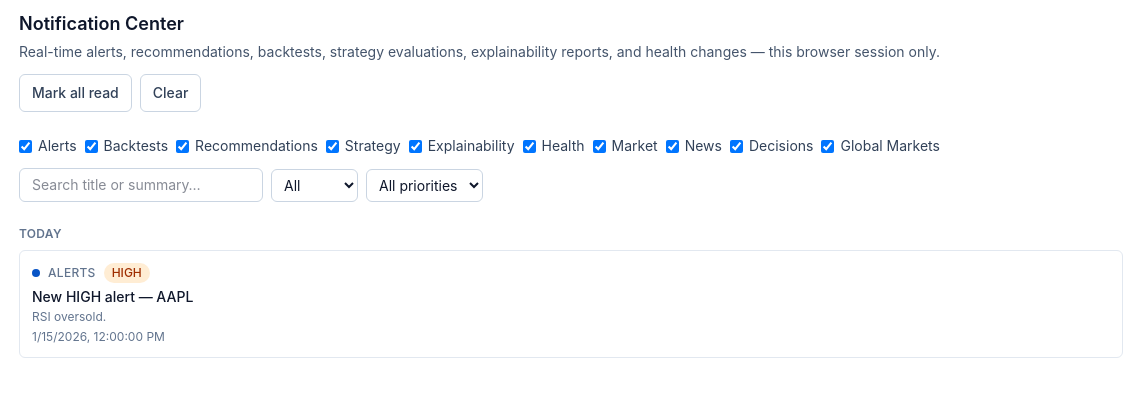
Test: NotificationCenterPage › shows the no-matches empty state when filters exclude everything
What coordinates should you click on to do the following:
click the checkbox labelled "Alerts"
I would click on:
 (26, 146)
Its box is [19,140,32,152].
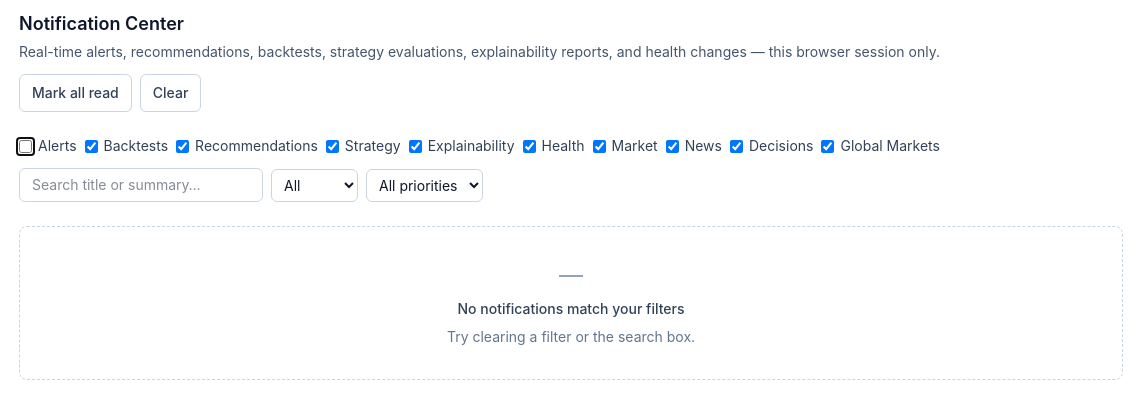
Expected: the text "No notifications match your filters" is shown, [458,299,684,319]
